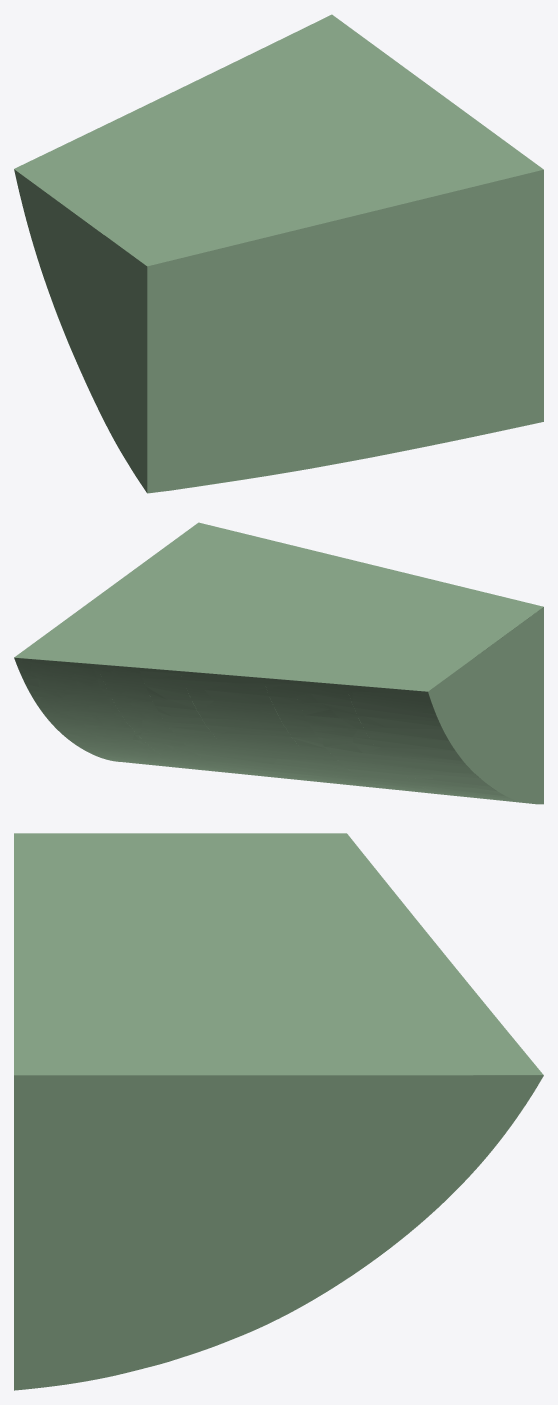
The model's file is SLUDGE_TK_PS.glb.
3 renders of one model, top to bottom at view 1: azimuth 30°, elevation 25°; view 2: azimuth 150°, elevation 25°; view 3: azimuth 270°, elevation 25°, orthographic. The views are drawn at different scales.
Visible parts, largest first — view 1: PL_GirderBxEPRP_004002-38.5_NVA_1993, PL_DoubleBottomxEPRP_008002-20.5_NVA_1993, PL_GirderBxEPRP_004001-38.5_NVA_1993, PL_DoubleBottomxEPRP_008001-20.5_NVA_1993, PL_TransxFR30P_001002-15_NVA_1993, PL_DoubleBottomxEPRP_005004-20.5_NVA_1993; view 2: PL_DoubleBottomxEPRP_008002-20.5_NVA_1993, PL_DoubleBottomxEPRP_008001-20.5_NVA_1993, PL_OuterShellxEPRP_046005-18_NVA_1993, PL_TransxFR30P_001002-15_NVA_1993, PL_OuterShellxEPRP_033001-18_NVA_1993, PL_OuterShellxEPRP_046003-18_NVA_1993, PL_OuterShellxEPRP_034001-18_NVA_1993, PL_DoubleBottomxEPRP_005004-20.5_NVA_1993; view 3: PL_TransxFR35P_001002-17.5_NVA_1993, PL_DoubleBottomxEPRP_008002-20.5_NVA_1993, PL_DoubleBottomxEPRP_008001-20.5_NVA_1993, PL_DoubleBottomxEPRP_005004-20.5_NVA_1993.
Boxes of the visible parts, <box> form: PL_GirderBxEPRP_004002-38.5_NVA_1993: <box>147,198,424,493</box>; PL_DoubleBottomxEPRP_008002-20.5_NVA_1993: <box>14,61,424,266</box>; PL_GirderBxEPRP_004001-38.5_NVA_1993: <box>425,169,543,446</box>; PL_DoubleBottomxEPRP_008001-20.5_NVA_1993: <box>237,18,534,198</box>; PL_TransxFR30P_001002-15_NVA_1993: <box>14,169,147,492</box>; PL_DoubleBottomxEPRP_005004-20.5_NVA_1993: <box>332,21,543,171</box>; PL_DoubleBottomxEPRP_008002-20.5_NVA_1993: <box>139,548,543,691</box>; PL_DoubleBottomxEPRP_008001-20.5_NVA_1993: <box>23,524,301,667</box>; PL_OuterShellxEPRP_046005-18_NVA_1993: <box>138,667,389,789</box>; PL_TransxFR30P_001002-15_NVA_1993: <box>428,607,543,804</box>; PL_OuterShellxEPRP_033001-18_NVA_1993: <box>290,680,481,779</box>; PL_OuterShellxEPRP_046003-18_NVA_1993: <box>14,657,236,773</box>; PL_OuterShellxEPRP_034001-18_NVA_1993: <box>359,776,529,803</box>; PL_DoubleBottomxEPRP_005004-20.5_NVA_1993: <box>22,522,205,653</box>; PL_TransxFR35P_001002-17.5_NVA_1993: <box>14,1075,543,1390</box>; PL_DoubleBottomxEPRP_008002-20.5_NVA_1993: <box>14,833,483,1002</box>; PL_DoubleBottomxEPRP_008001-20.5_NVA_1993: <box>14,1002,538,1069</box>; PL_DoubleBottomxEPRP_005004-20.5_NVA_1993: <box>14,1070,522,1075</box>.
Bounding box in the file's own units: 4.5 × 2.73 × 4.17.
